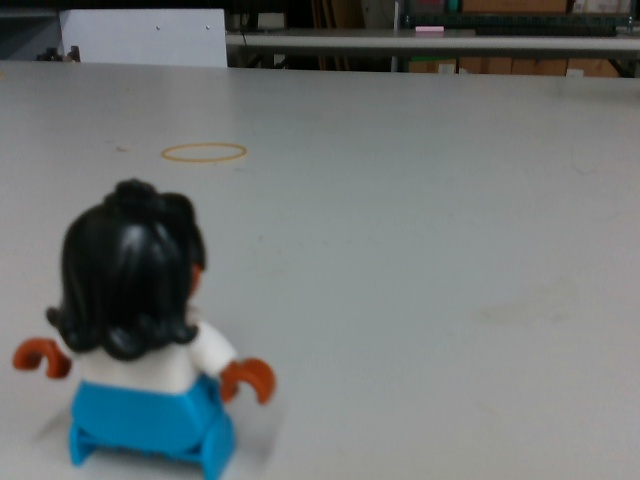people: (14, 178, 278, 479)
